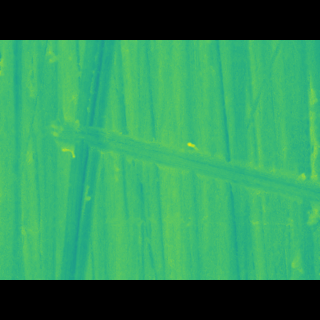Loch: (46, 126, 319, 203), (55, 69, 121, 251), (298, 87, 319, 227)
